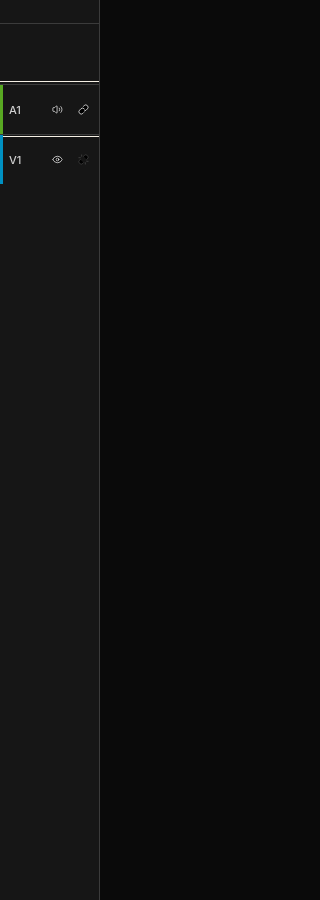
control-db7fbb7edbcca44d dismiss track reorder menu
Right-click the element showing "A1" at (50, 109), box [0,84,99,134]
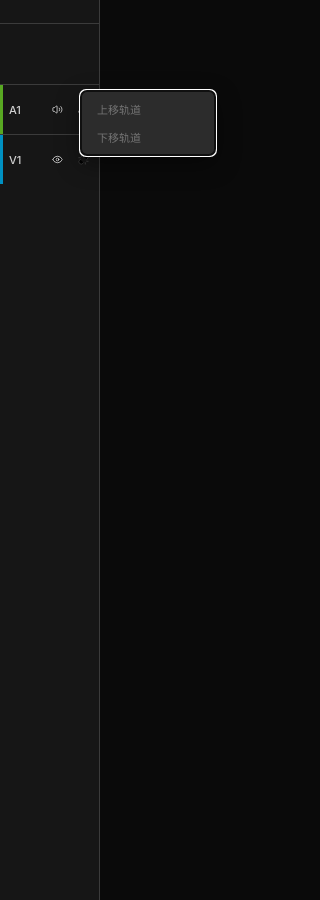
Expected: the menu is shown
Press the mouse on the element showing "上移轨道 下移轨道" at (148, 123), box [80,90,216,156]
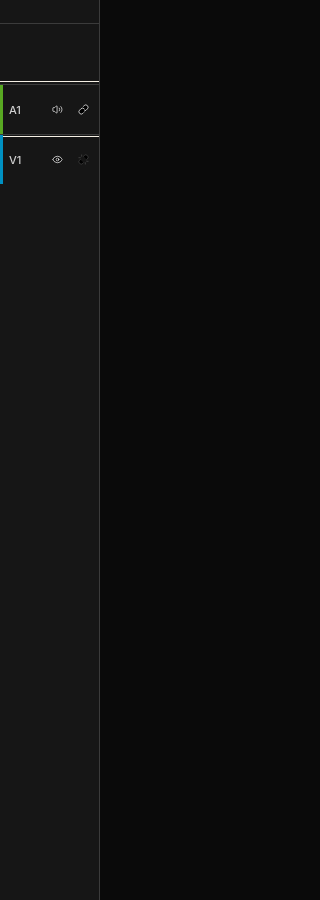
Expected: the menu is gone
Right-click the element showing "A1" at (50, 109), box [0,84,99,134]
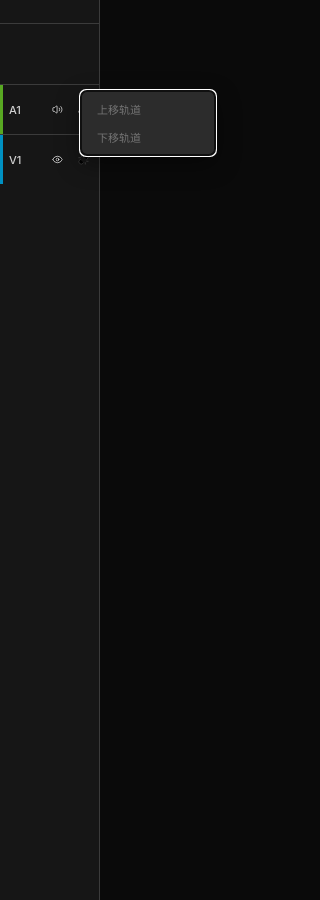
Right-click the element showing "上移轨道 下移轨道" at (148, 123), box [80,90,216,156]
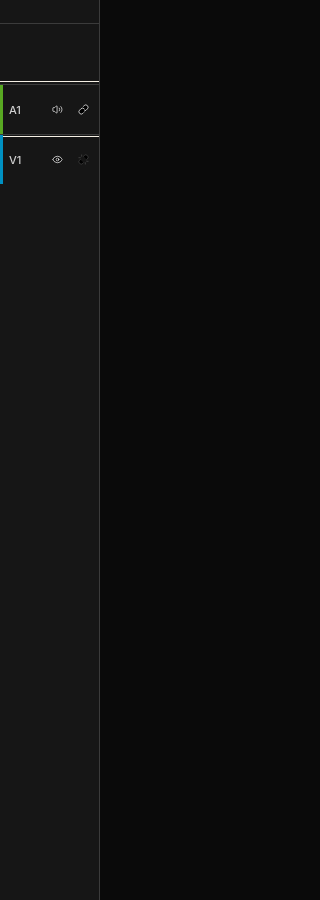
Expected: the menu is gone
Press F10 in the element showing "A1", box [0,84,99,134]
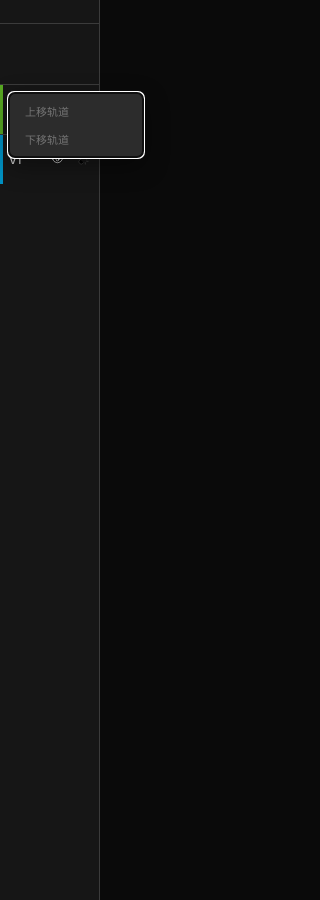
Expected: the menu is shown
Press Escape in the menu, box [8,92,144,158]
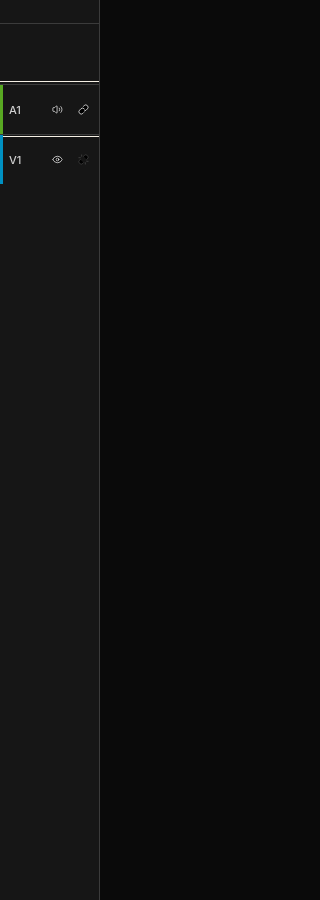
Expected: the menu is gone
